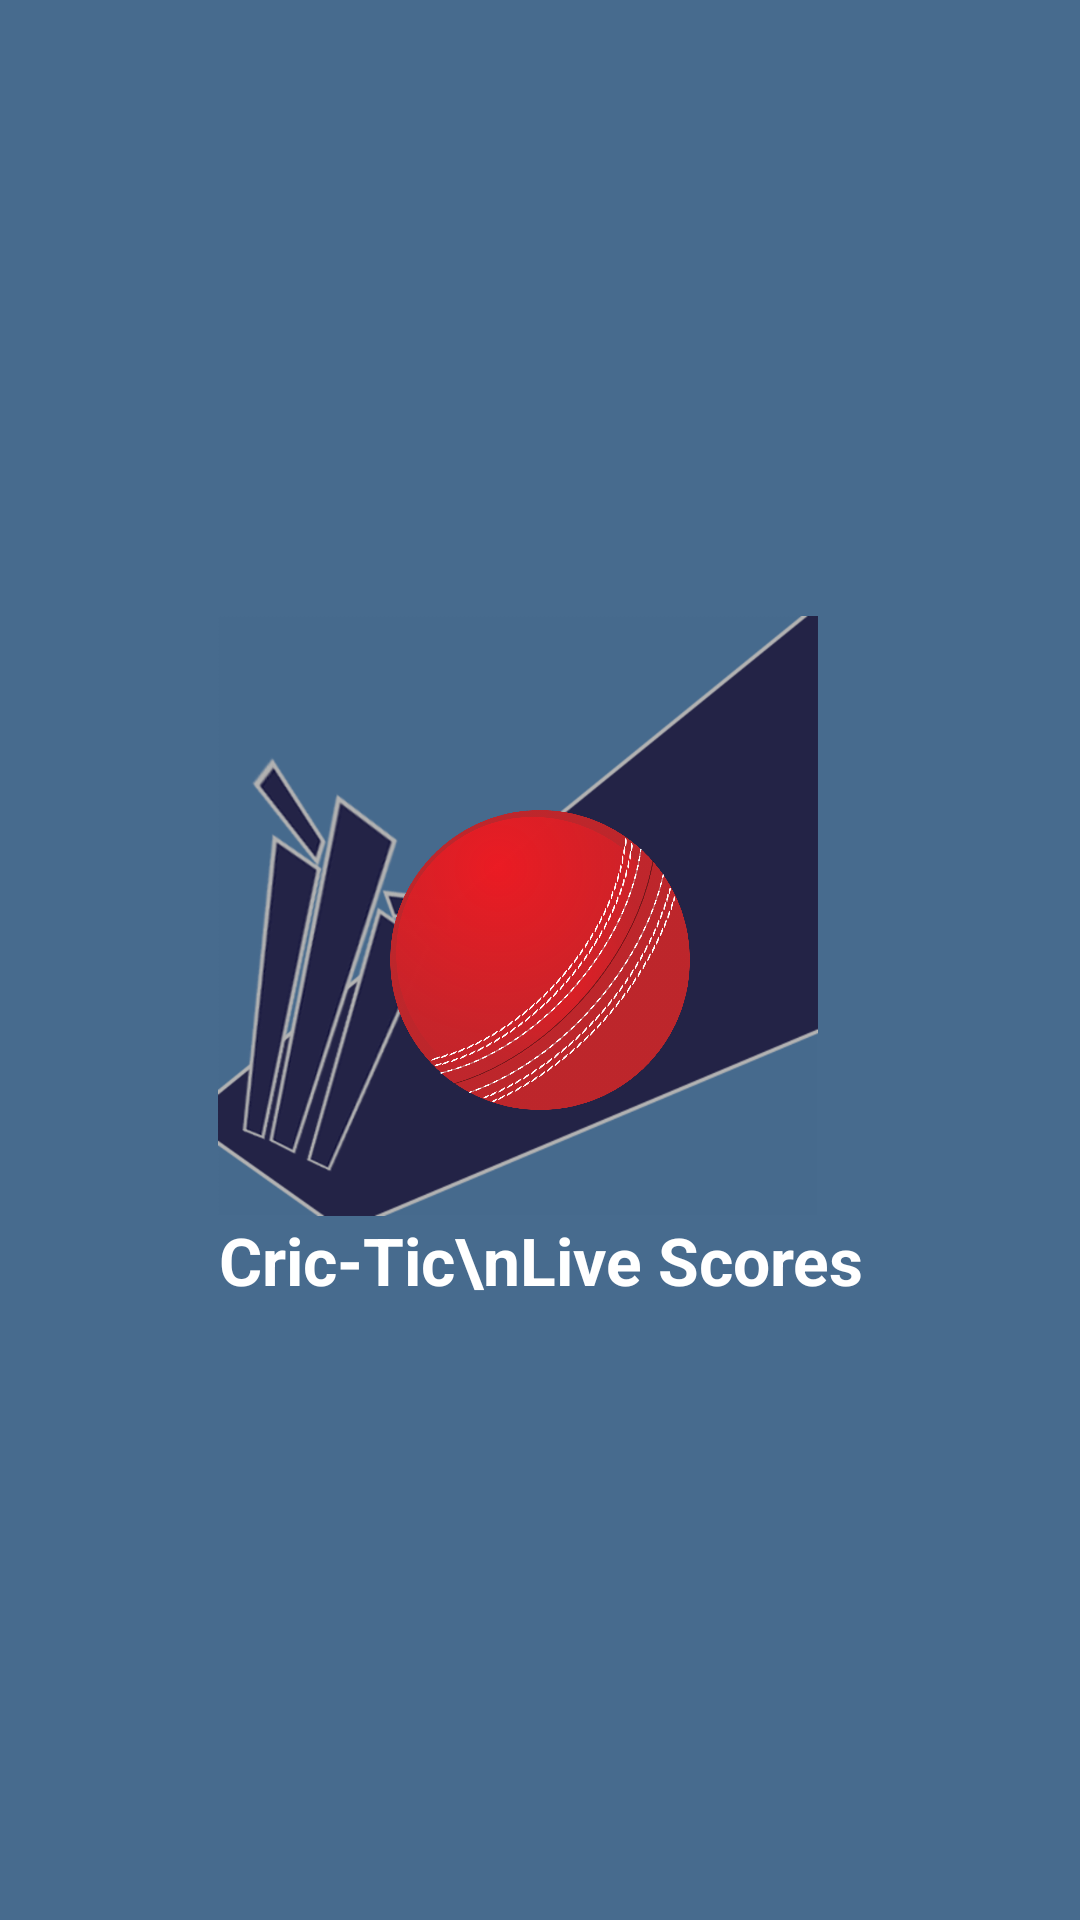

Icons on this 1080 × 1920 Android screen, each with the point to tap as point (x, y):
ball: point (540, 960)
